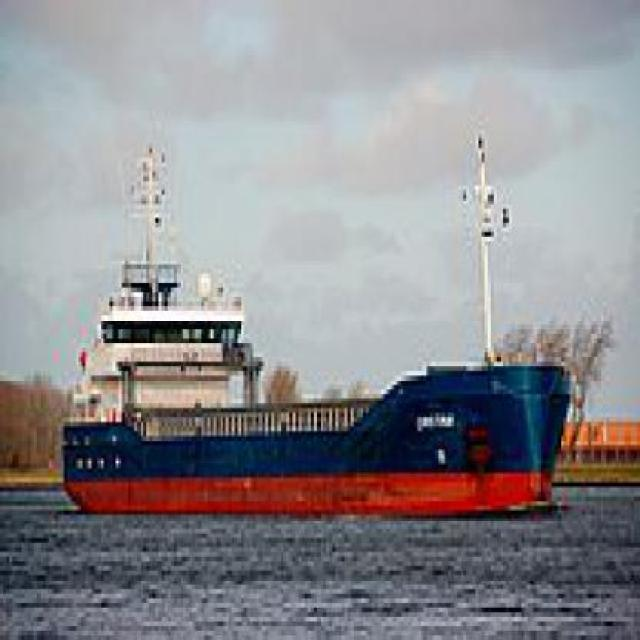container: (40, 210, 571, 516)
